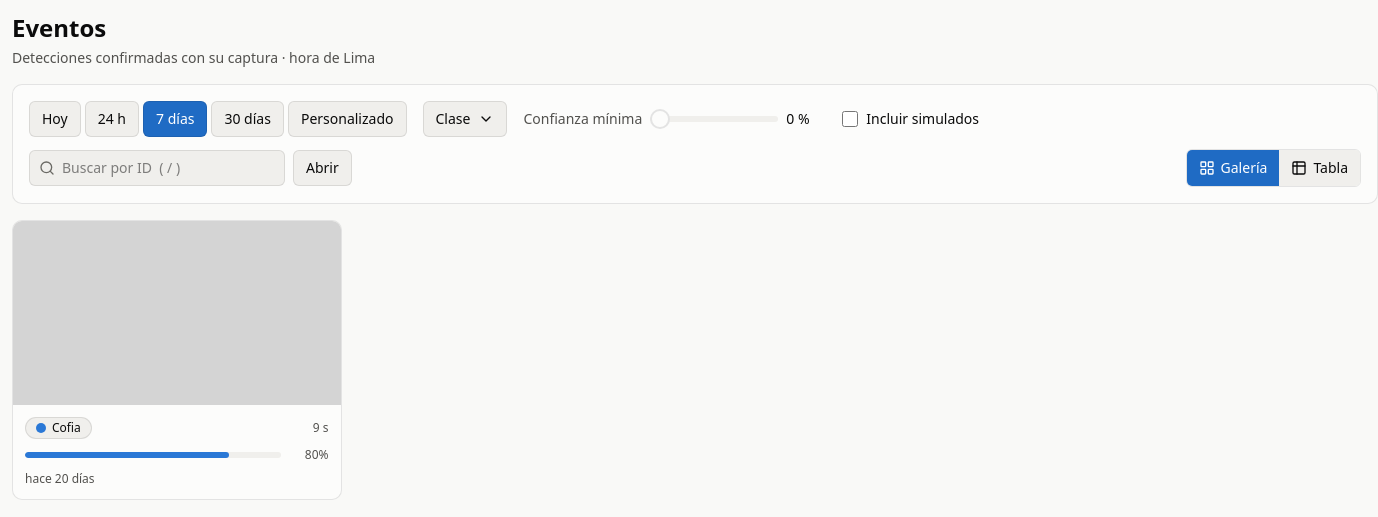
Test case: Eventos › cambiar un filtro actualiza la URL
Click the radio button labelled "30 días" at (248, 119), box [212,101,284,137]
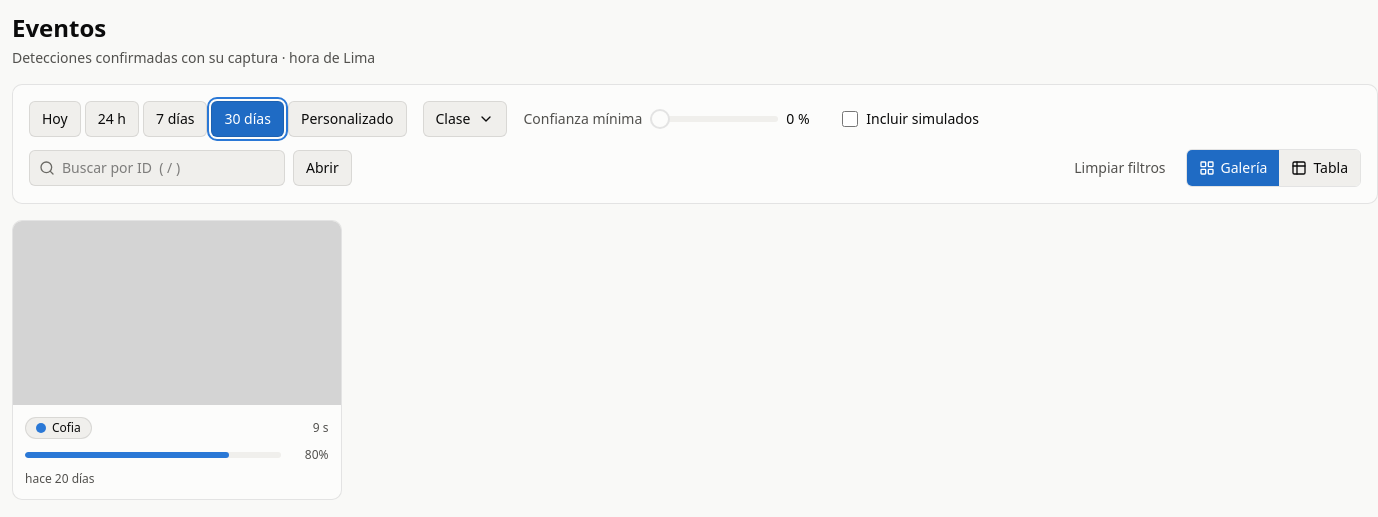
Click the button "Tabla" at (1320, 168), box [1279,150,1360,186]
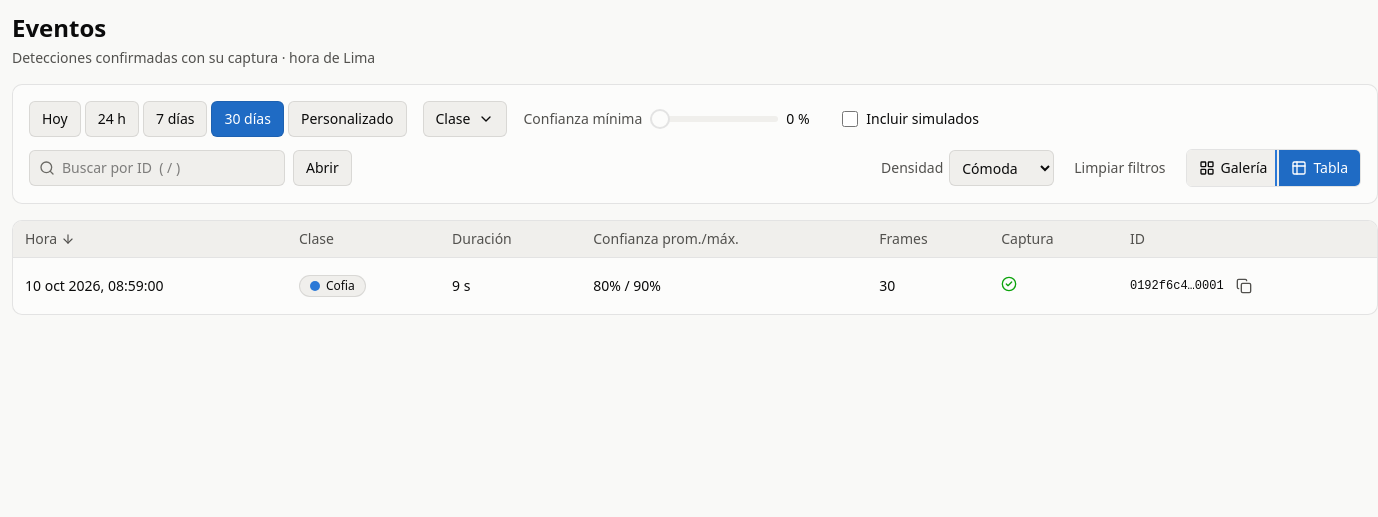
Result: the table is shown at [13,221,1377,314]
